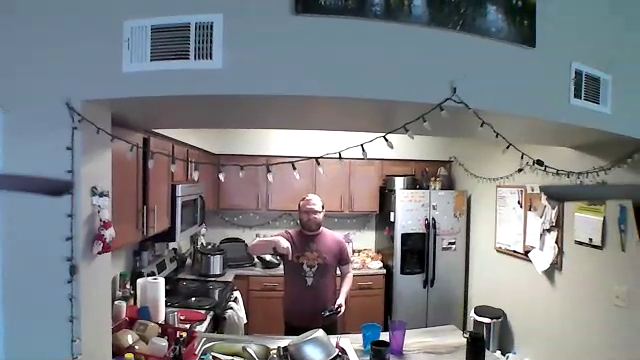down: (269, 229, 296, 266)
